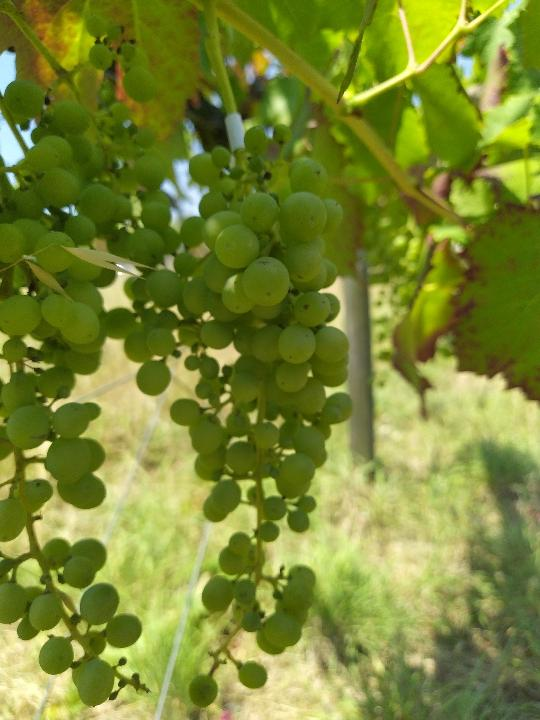grape: (105, 123, 355, 707)
